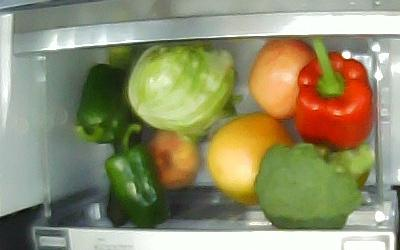apple: (249, 40, 316, 120)
broccoli: (253, 143, 375, 231)
cucumber: (107, 48, 145, 228)
grapefruit: (207, 112, 294, 205)
lettuce: (128, 39, 235, 137)
paprika: (294, 37, 374, 152), (104, 123, 172, 229), (74, 62, 125, 145)
peach: (146, 132, 198, 189)
